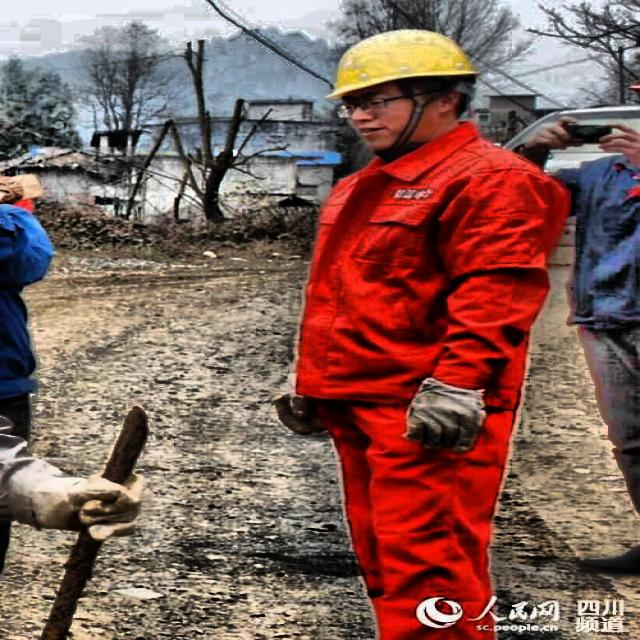helmet: (316, 20, 496, 156)
